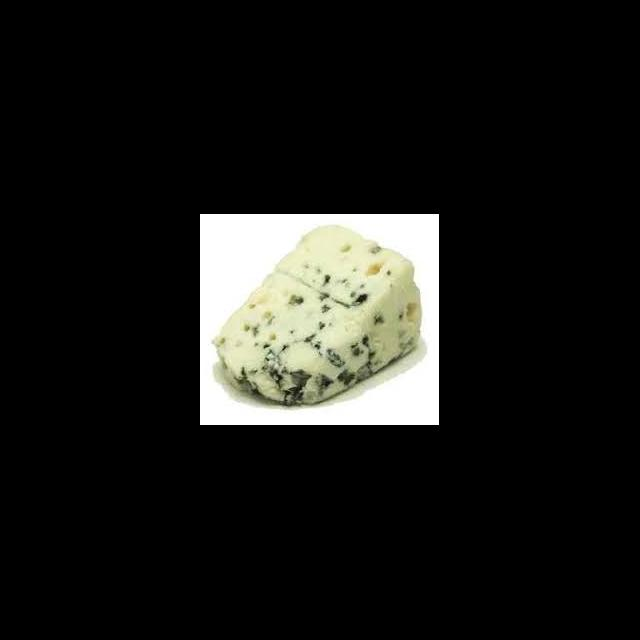food_waste: (209, 216, 435, 407)
